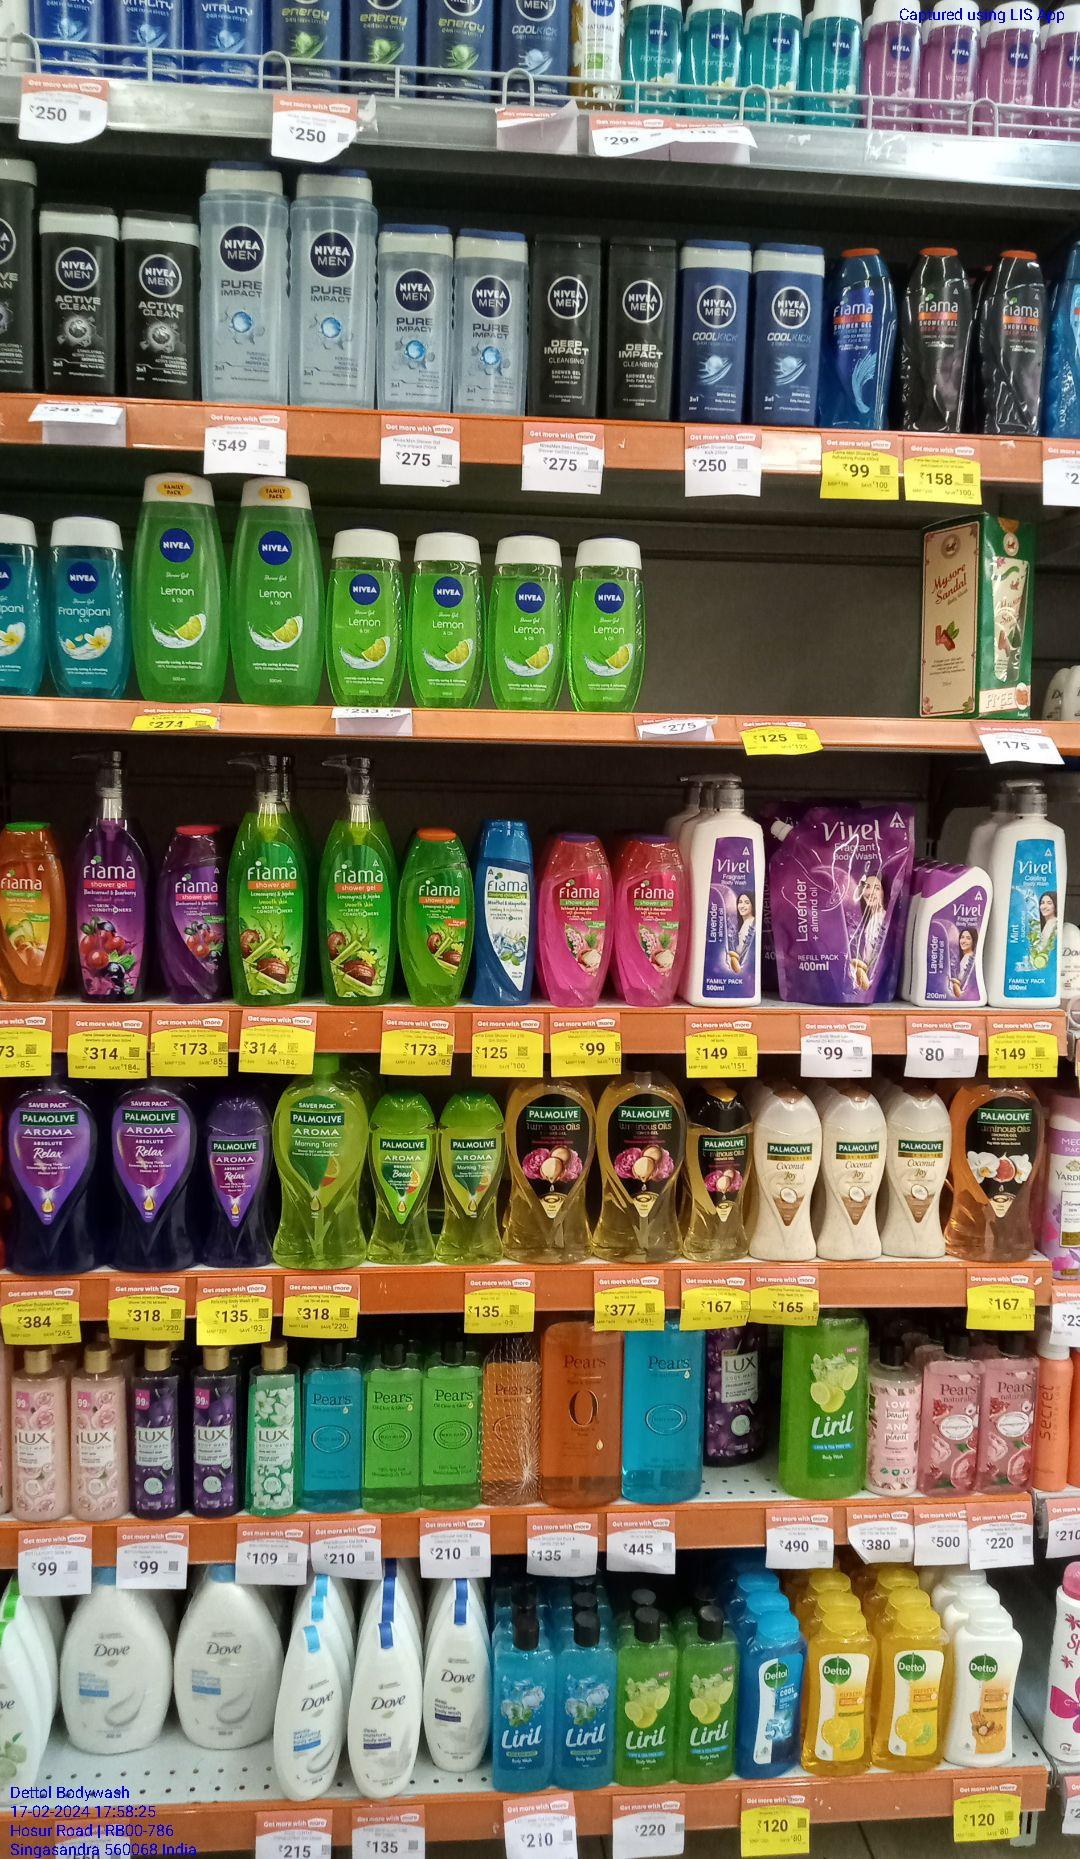Dettol_Bodywash_Cool: (741, 1612, 806, 1786)
Dettol_Bodywash_Refresh: (878, 1607, 942, 1775), (813, 1607, 874, 1779)
Dettol_Nourish_Body_Wash_250ML: (945, 1611, 1017, 1768)
Dove_Deep_Moisture_Body_Wash_250ML: (348, 1624, 424, 1796), (429, 1608, 490, 1773)
Dove_Gentle_Exfoliating_Body_Wash_250ML: (278, 1624, 345, 1802)
Fiama_Shower_Gel_Lemongrass_and_Jojoba_250ML: (399, 831, 469, 1007)
Fiama_Shower_Gel_Patchouli_and_Macadamia_250ML: (539, 836, 616, 1005), (618, 834, 690, 1003)
Fiama_Shower_Gel_Peach_and_Avocado_250ML: (0, 819, 66, 1000)
Liril_Cooling_Mint_Body_Wash_250ML: (492, 1615, 558, 1793), (562, 1615, 613, 1788)
Liril_Lime_and_Tea_Tree_Oil_Body_Wash_250ML: (613, 1615, 678, 1786), (681, 1603, 733, 1779)
Lux_Black_Orchid_Scent_and_Juniper_Oil_Body_Wash_245ML: (186, 1349, 243, 1516), (129, 1347, 183, 1516)
Lux_Body_Wash_Skin_Detox_Freesia_Scent_and_Alove_Vera_245ML: (247, 1346, 300, 1516)
Nivea_Shower_Gel_Frangipani_and_Oil_250ML: (42, 513, 127, 698)
Nivea_Shower_Gel_Lemon_and_Oil_250ML: (134, 473, 230, 701), (234, 477, 325, 701), (327, 532, 404, 707), (408, 532, 481, 707), (492, 532, 563, 711), (571, 535, 640, 712)
Palmolive_Aroma_Morning_Tonic_Shower_Gel_250ML: (368, 1091, 437, 1265), (441, 1085, 507, 1268)
Palmolive_Aroma_Relax_250ML: (198, 1091, 273, 1262)
Palmolive_Coconut_Joy_Exfoliating_Body_Wash_250ML: (824, 1088, 887, 1262), (757, 1088, 819, 1261), (890, 1085, 949, 1261)
Palmolive_Luminous_Oils_Invigorating_Macadamia_Oil_With_Peony_250ML: (688, 1089, 752, 1266)
Pears_Pure_Glycerin_and_Lemon_Flower_Extracts_Body_Wash_250ML: (368, 1346, 420, 1512), (424, 1346, 477, 1512)
Pears_Pure_Glycerin_and_Mint_Extracts_Body_Wash_250ML: (303, 1347, 361, 1512)
